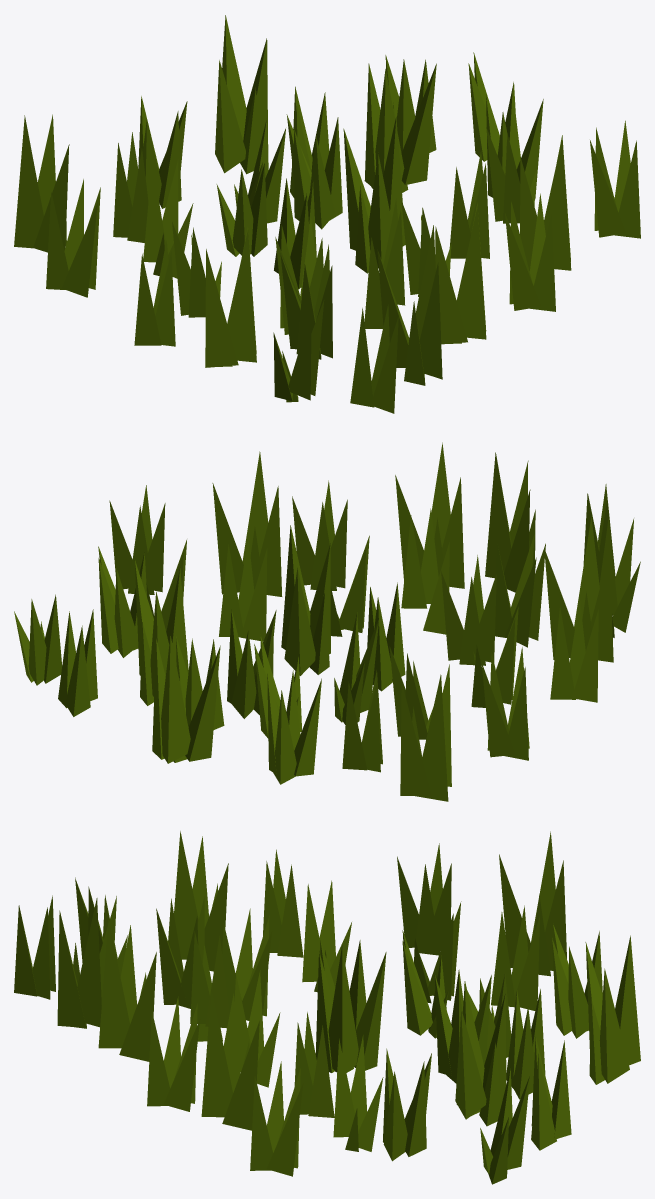
Rendered from grass.fbx.
The picture shows the model from 3 angles, top to bottom: view 1: azimuth 30°, elevation 25°; view 2: azimuth 150°, elevation 25°; view 3: azimuth 270°, elevation 25°; orthographic projection. The views are drawn at different scales.
Parts seen in each view (by area): view 1: pCone24 (×7), pCone19 (×7), pCone20 (×4), pCone28 (×6), pCone22 (×6), pCone29 (×5), pCone26 (×6), pCone18 (×5), pCone16 (×5), pCone21 (×3), pCone27 (×3), pCone30 (×2) (+14 smaller); view 2: pCone24 (×7), pCone19 (×7), pCone20 (×7), pCone18 (×7), pCone29 (×5), pCone27 (×6), pCone26 (×5), pCone28 (×6), pCone30 (×4), pCone22 (×5), pCone21 (×3), pCone16 (×4) (+12 smaller); view 3: pCone24 (×7), pCone20 (×7), pCone19 (×7), pCone30 (×7), pCone18 (×6), pCone26 (×5), pCone29 (×5), pCone28 (×6), pCone22 (×6), pCone21 (×5), pCone27 (×4), pCone16 (×4) (+10 smaller).
Part boxes in pixels (bbox=[...]): pCone24 (×7): bbox=[14, 15, 571, 362]; pCone19 (×7): bbox=[37, 38, 536, 379]; pCone20 (×4): bbox=[33, 60, 436, 367]; pCone28 (×6): bbox=[113, 59, 489, 395]; pCone22 (×6): bbox=[162, 127, 505, 400]; pCone29 (×5): bbox=[134, 92, 470, 413]; pCone26 (×6): bbox=[62, 99, 630, 349]; pCone18 (×5): bbox=[64, 94, 626, 358]; pCone16 (×5): bbox=[143, 63, 520, 395]; pCone21 (×3): bbox=[46, 140, 640, 311]; pCone27 (×3): bbox=[159, 89, 520, 359]; pCone30 (×2): bbox=[127, 148, 374, 407]; pCone24 (×7): bbox=[161, 442, 599, 801]; pCone19 (×7): bbox=[150, 460, 613, 795]; pCone20 (×7): bbox=[134, 475, 574, 786]; pCone18 (×7): bbox=[114, 499, 534, 774]; pCone29 (×5): bbox=[65, 542, 598, 770]; pCone27 (×6): bbox=[98, 502, 545, 750]; pCone26 (×5): bbox=[109, 496, 536, 776]; pCone28 (×6): bbox=[84, 508, 585, 772]; pCone30 (×4): bbox=[58, 515, 576, 708]; pCone22 (×5): bbox=[28, 519, 633, 736]; pCone21 (×3): bbox=[273, 543, 528, 784]; pCone16 (×4): bbox=[44, 518, 617, 739]; pCone24 (×7): bbox=[77, 831, 640, 1117]; pCone20 (×7): bbox=[99, 854, 602, 1130]; pCone19 (×7): bbox=[57, 836, 629, 1105]; pCone30 (×7): bbox=[48, 864, 556, 1150]; pCone18 (×6): bbox=[156, 863, 588, 1152]; pCone26 (×5): bbox=[163, 856, 418, 1176]; pCone29 (×5): bbox=[14, 849, 571, 1139]; pCone28 (×6): bbox=[32, 861, 545, 1114]; pCone22 (×6): bbox=[75, 877, 530, 1169]; pCone21 (×5): bbox=[147, 843, 442, 1170]; pCone27 (×4): bbox=[168, 864, 572, 1156]; pCone16 (×4): bbox=[234, 884, 512, 1156].
Size of the model in its own units: 7.5 by 2.25 by 8.23.
